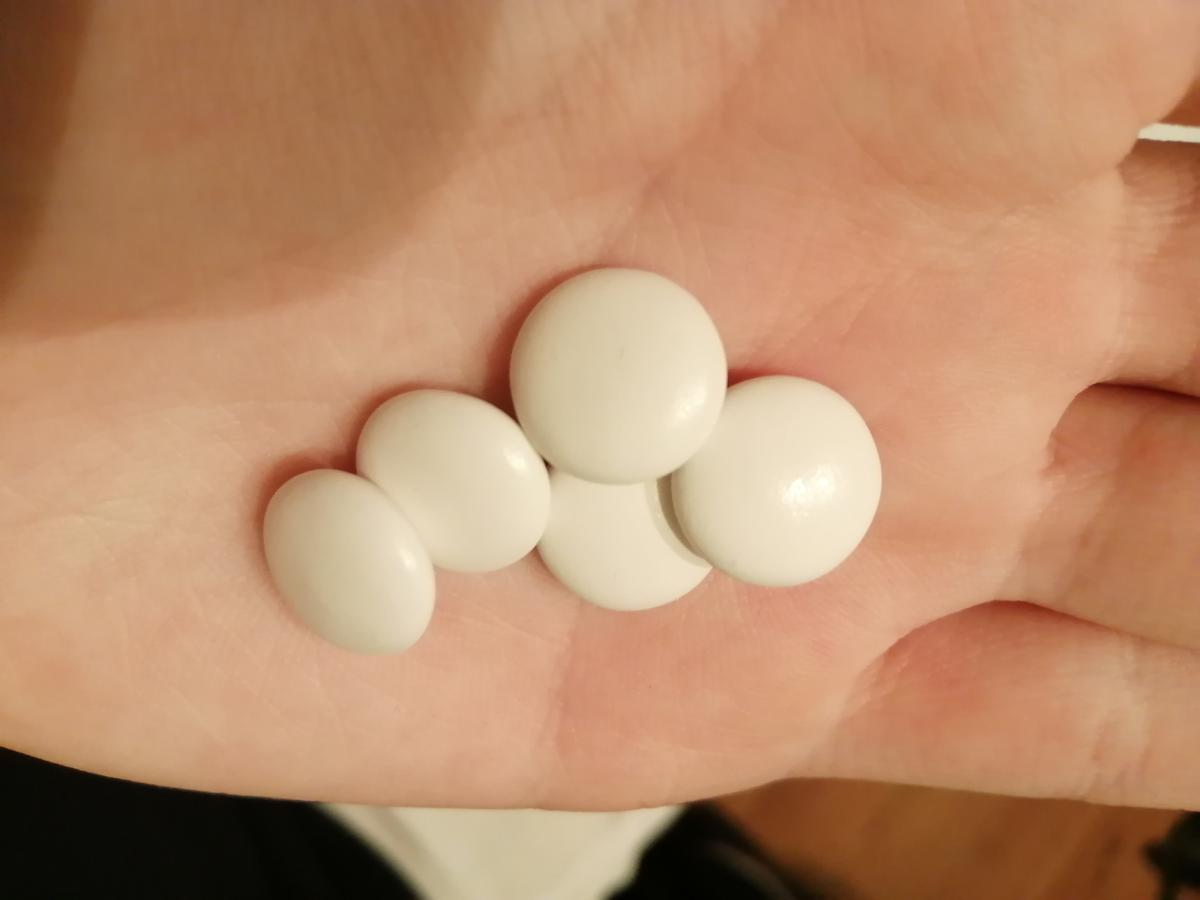tablet: (501, 262, 727, 479), (670, 375, 884, 591), (353, 388, 549, 578), (261, 466, 437, 654), (532, 438, 719, 613)
